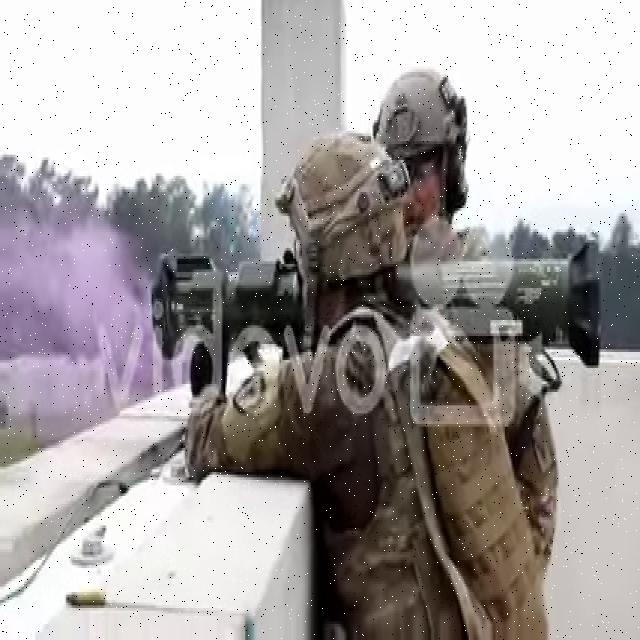bazooka: (143, 231, 612, 368)
